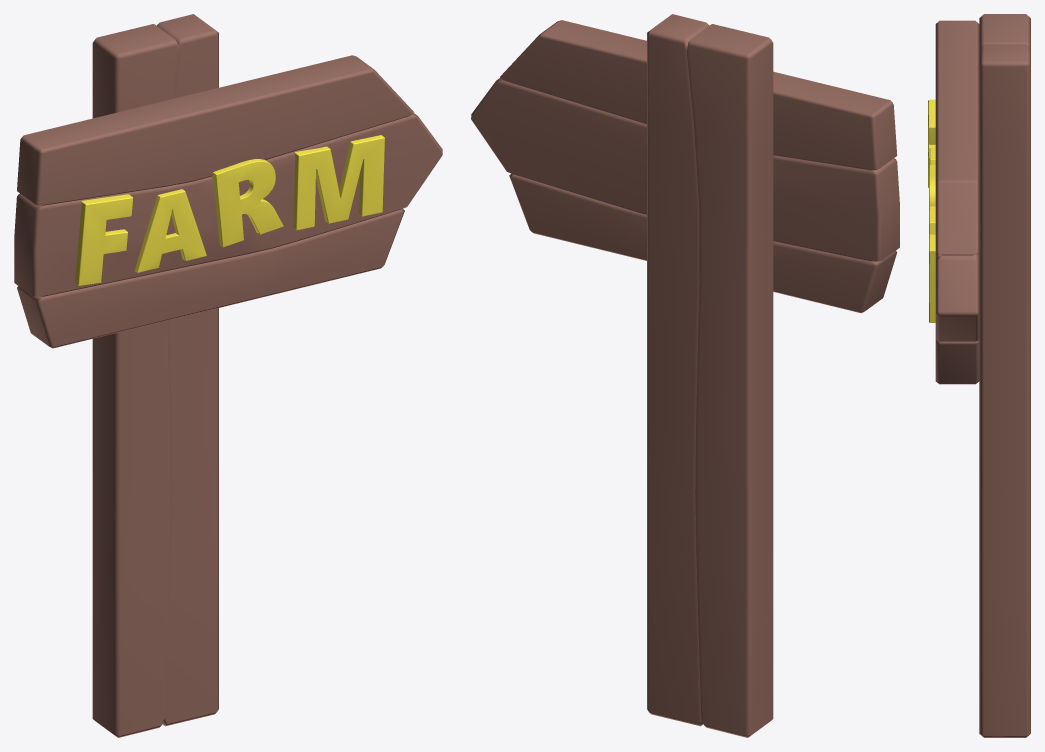
File: Farm_17_Sign_Farm_1.glb
The picture shows the model from 3 angles, left to right: view 1: azimuth 30°, elevation 25°; view 2: azimuth 150°, elevation 25°; view 3: azimuth 270°, elevation 25°; orthographic projection.
Visible parts, largest first — view 1: Farm_17_Sign_Farm_1; view 2: Farm_17_Sign_Farm_1; view 3: Farm_17_Sign_Farm_1.
Part boxes in pixels (left/top/right/bottom): Farm_17_Sign_Farm_1: left=14, top=14, right=442, bottom=737; Farm_17_Sign_Farm_1: left=471, top=14, right=899, bottom=737; Farm_17_Sign_Farm_1: left=928, top=14, right=1030, bottom=737.
Bounding box in the file's own units: 1.34 × 2.13 × 0.2935.
Materials: 1 (1 with a texture image).
